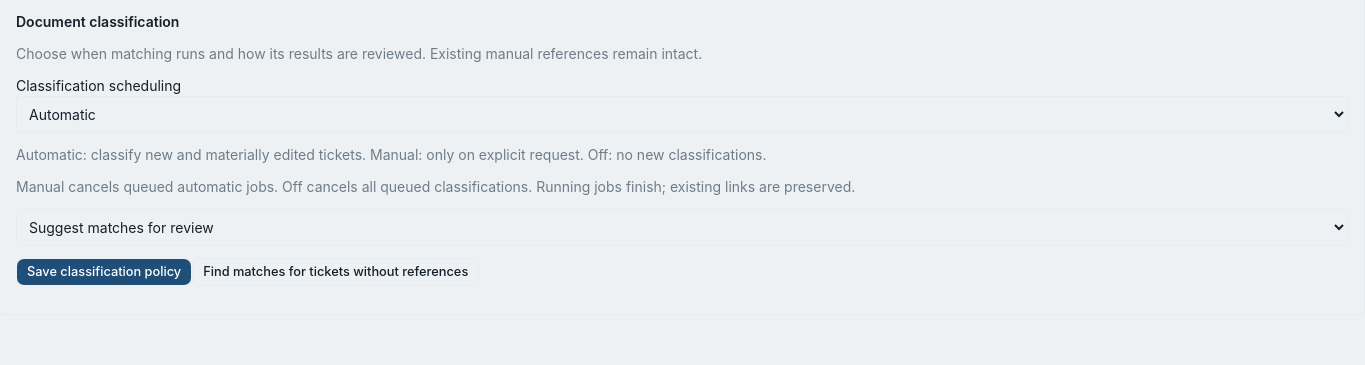
Test: project document classification settings › saves scheduling independently and disables requests until saved and while off
Select "Off" in the dropdown labelled "Classification scheduling" at (682, 115), box [16,96,1348,133]
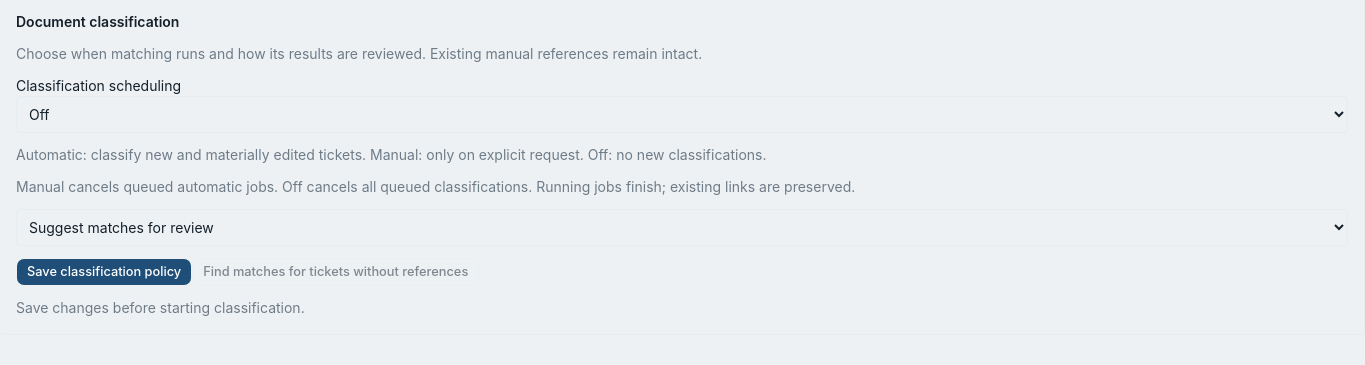
expect the button "Find matches for tickets without references" is disabled: met, box [192,258,479,286]
Click the button "Save classification policy" at (104, 272), box [16,258,192,286]
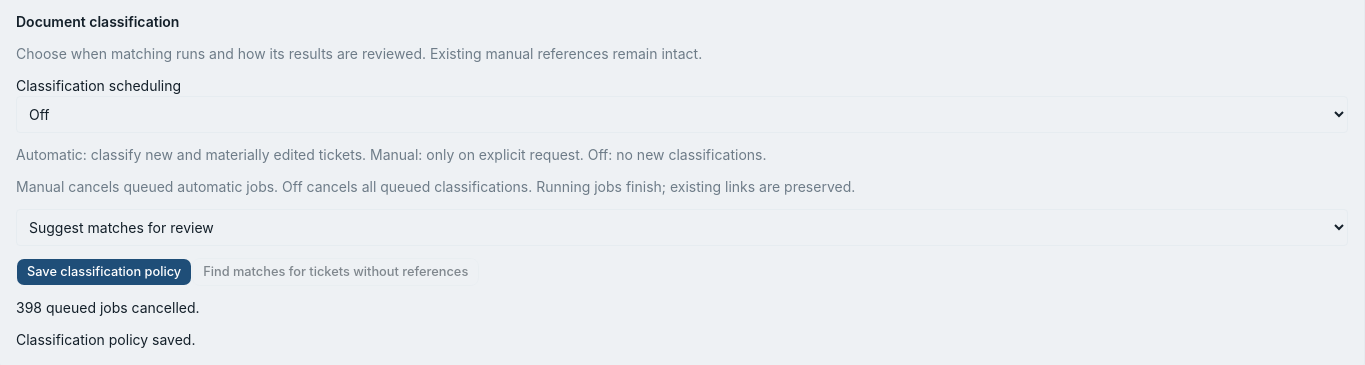
expect the button "Find matches for tickets without references" is disabled: met, box [192,258,479,286]
expect the text "Classification policy saved." is shown: met, box [16,331,196,348]
expect the text "398 queued jobs cancelled." is shown: met, box [16,299,200,316]
Select "Manual" in the dropdown labelled "Classification scheduling" at (682, 115), box [16,96,1348,133]
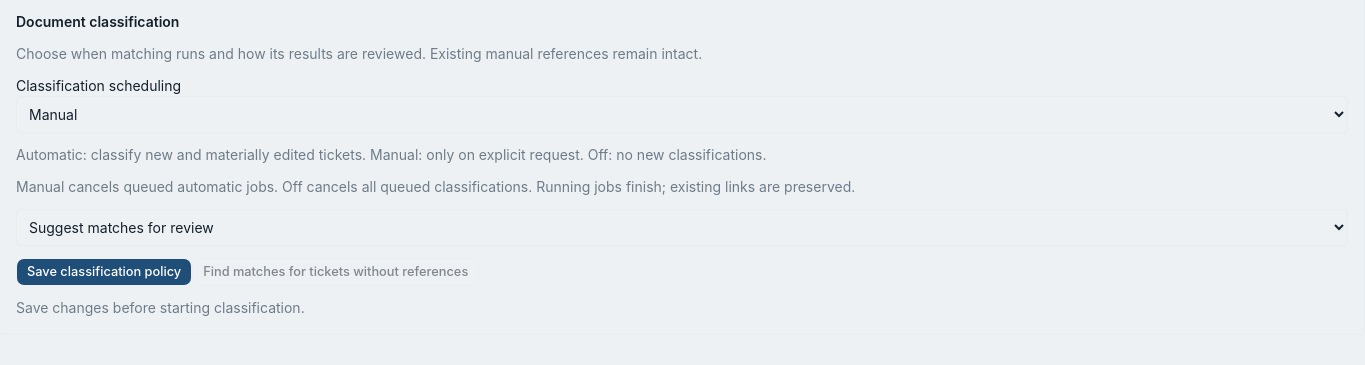
expect the button "Find matches for tickets without references" is disabled: met, box [192,258,479,286]
Click the button "Save classification policy" at (104, 272), box [16,258,192,286]
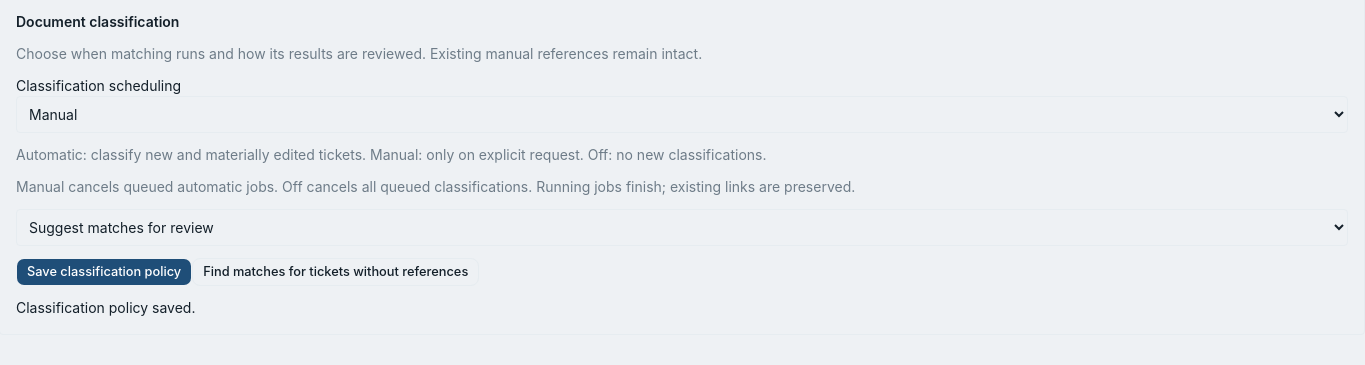
expect the button "Find matches for tickets without references" is enabled: met, box [192,258,479,286]
